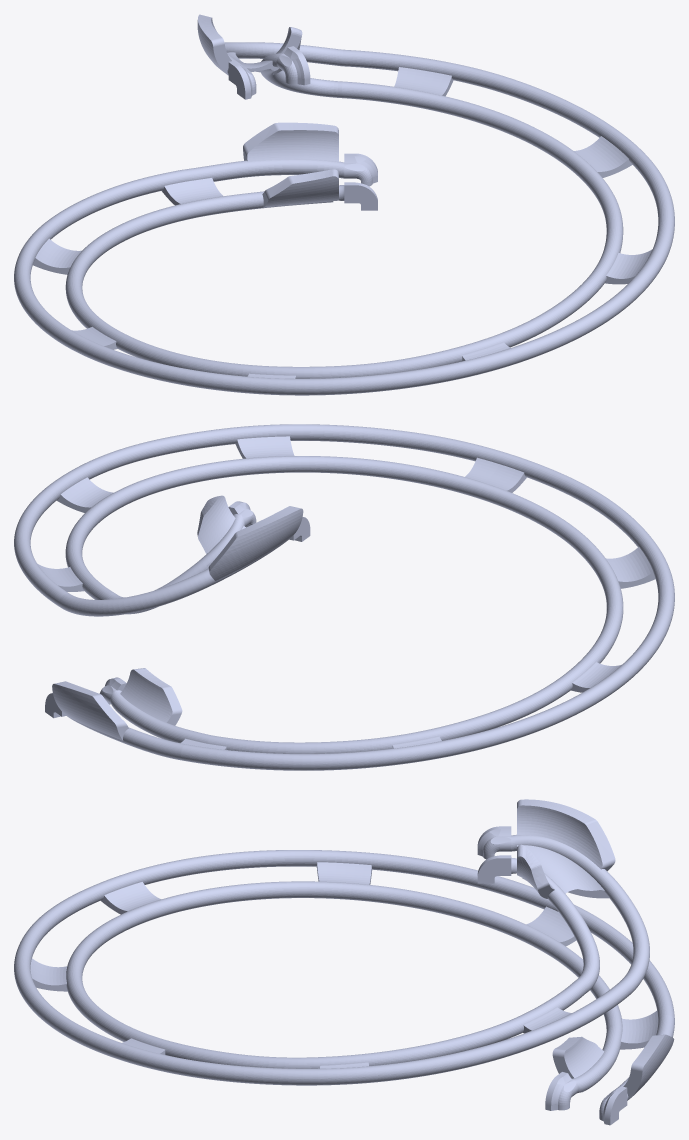
File: SpiralRamp.FBX
The picture shows the model from 3 angles, top to bottom: view 1: azimuth 30°, elevation 25°; view 2: azimuth 150°, elevation 25°; view 3: azimuth 270°, elevation 25°; orthographic projection.
Visible parts, largest first — view 1: SpiralRamp.SLDPRT|:|5C0A245010C863AEE6CA45D45E8D7723429AF045; view 2: SpiralRamp.SLDPRT|:|5C0A245010C863AEE6CA45D45E8D7723429AF045; view 3: SpiralRamp.SLDPRT|:|5C0A245010C863AEE6CA45D45E8D7723429AF045.
Part boxes in pixels (bbox=[...]): SpiralRamp.SLDPRT|:|5C0A245010C863AEE6CA45D45E8D7723429AF045: bbox=[14, 14, 674, 395]; SpiralRamp.SLDPRT|:|5C0A245010C863AEE6CA45D45E8D7723429AF045: bbox=[14, 424, 674, 770]; SpiralRamp.SLDPRT|:|5C0A245010C863AEE6CA45D45E8D7723429AF045: bbox=[14, 799, 674, 1125].
Size of the model in its own units: 4.68 by 4.68 by 1.74.
